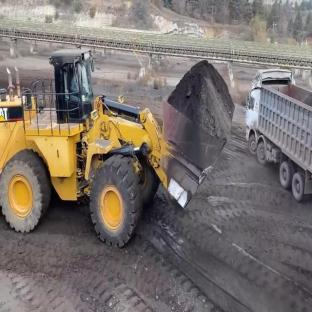ExcavationMachinery: (0, 48, 234, 241)
Vehicle: (245, 63, 312, 205)
